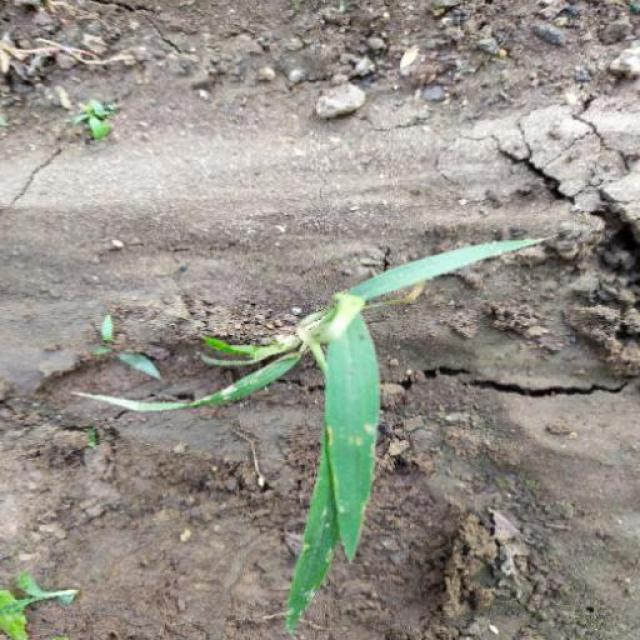weed: (78, 213, 550, 615)
